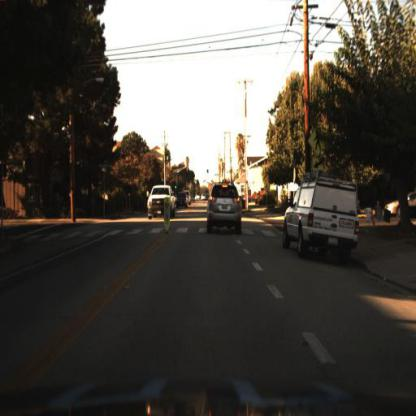car: (273, 163, 365, 270), (201, 172, 245, 234), (141, 180, 173, 222), (173, 186, 189, 209)
